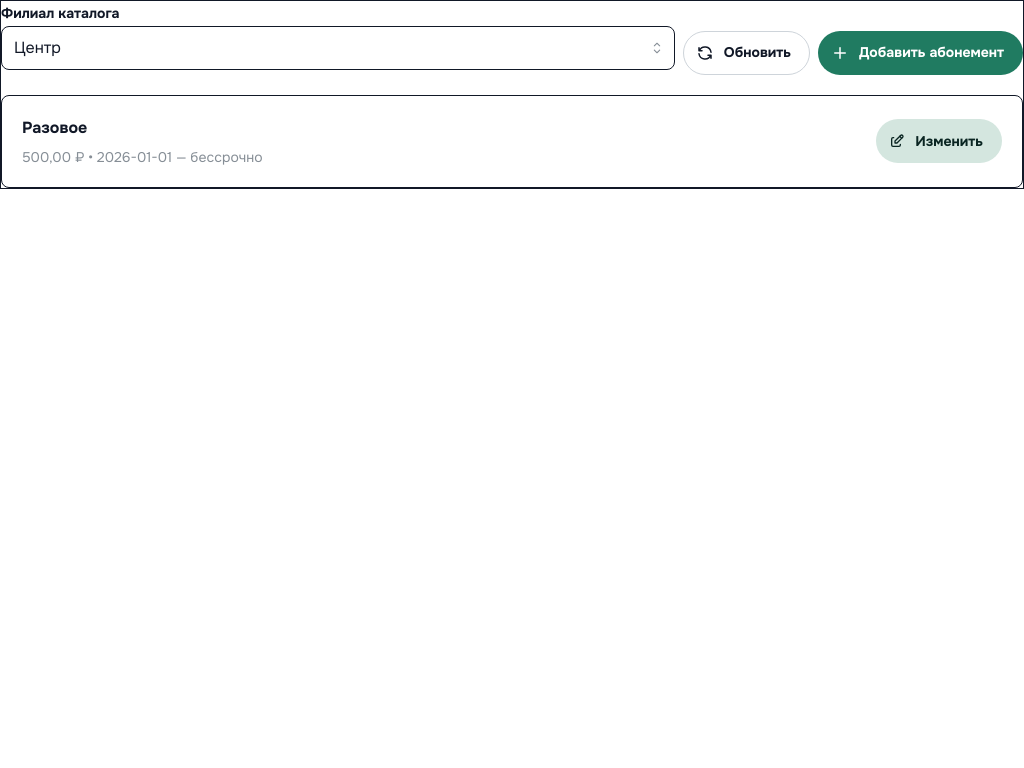
Test: MembershipCatalogSettings › edit form omits immutable controls and delete action
Step 1. Click the button with aria-label "Редактировать Разовое" → (939, 141), box [876,119,1002,163]
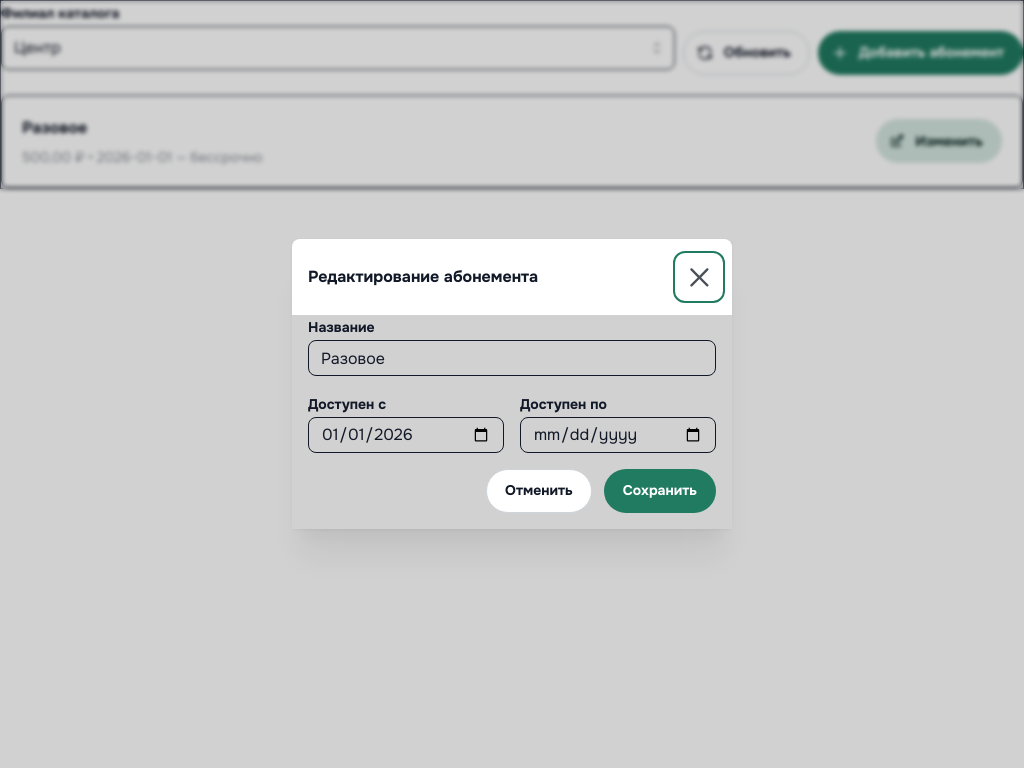
Check: the field labelled "Название" is shown, box [308,340,716,376]
